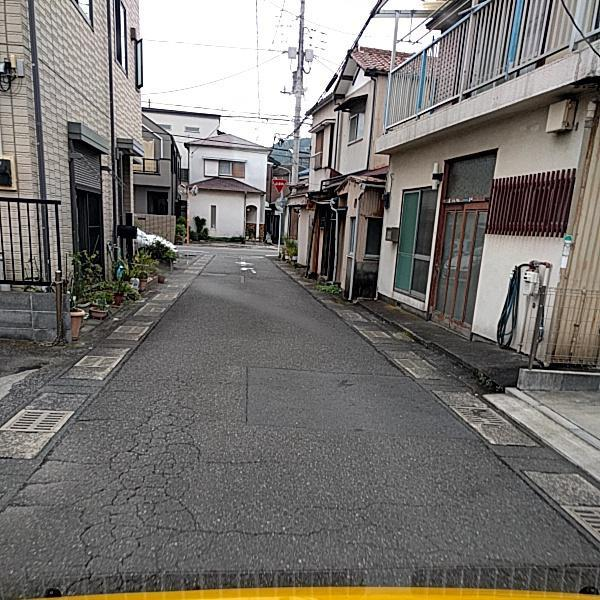D20: (31, 361, 238, 599), (241, 463, 588, 578)
